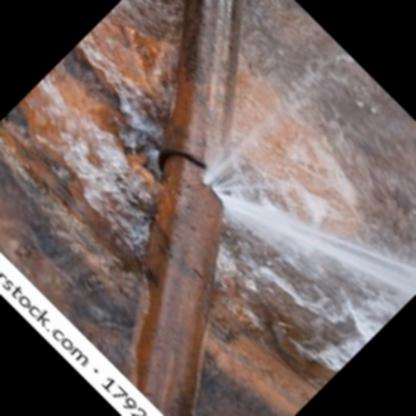burst: (182, 160, 259, 223)
